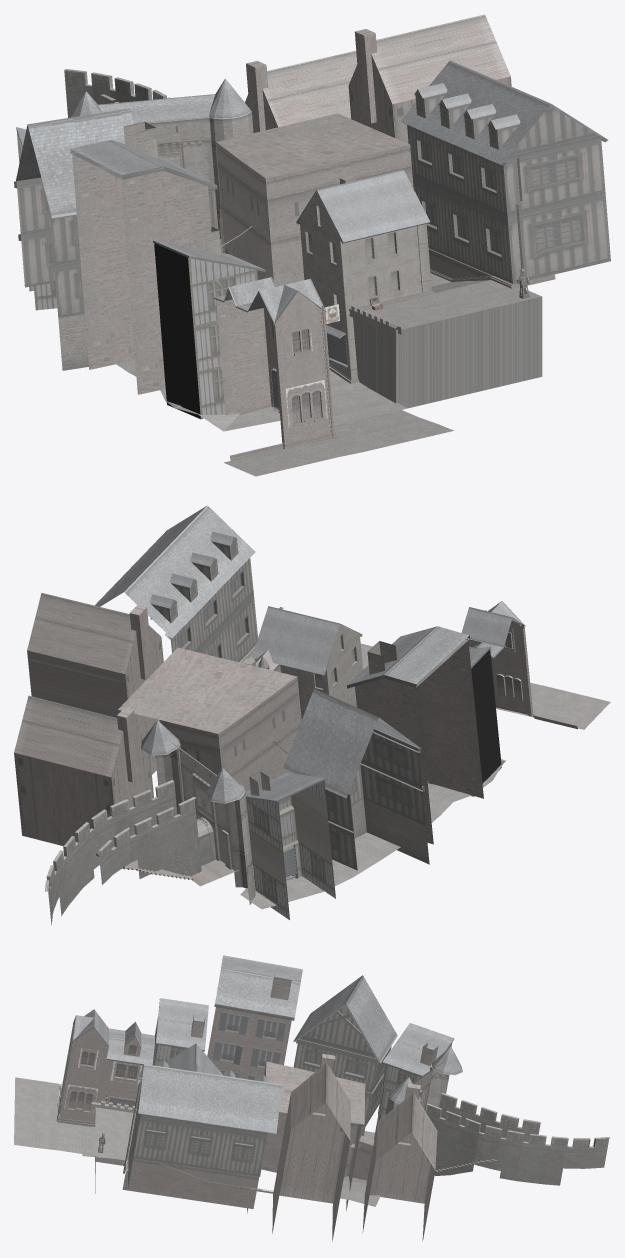
File: street.obj
3 views of the same model, one above another, from view 1: azimuth 30°, elevation 25°; view 2: azimuth 150°, elevation 25°; view 3: azimuth 270°, elevation 25° (orthographic). The views are drawn at different scales.
Visible parts, largest first — view 1: DrawCall_0046.001, DrawCall_0016.001, DrawCall_0033.001, DrawCall_0024.001, DrawCall_0044.001, DrawCall_0010.001, DrawCall_0027.001, DrawCall_0015.001, DrawCall_0006.001, DrawCall_0021.001, DrawCall_0020.001, DrawCall_0028.001 (+15 smaller); view 2: DrawCall_0024.001, DrawCall_0006.001, DrawCall_0010.001, DrawCall_0033.001, DrawCall_0015.001, DrawCall_0004.001, DrawCall_0021.001, DrawCall_0020.001, DrawCall_0016.001, DrawCall_0046.001, DrawCall_0064.001, DrawCall_0028.001 (+17 smaller); view 3: DrawCall_0010.001, DrawCall_0015.001, DrawCall_0046.001, DrawCall_0006.001, DrawCall_0016.001, DrawCall_0021.001, DrawCall_0014.001, DrawCall_0032.001, DrawCall_0024.001, DrawCall_0044.001, DrawCall_0051.001, DrawCall_0020.001 (+17 smaller).
Part boxes in pixels (left/top/right/bottom): DrawCall_0046.001: left=116, top=273, right=542, bottom=476; DrawCall_0016.001: left=407, top=90, right=610, bottom=283; DrawCall_0033.001: left=72, top=152, right=210, bottom=394; DrawCall_0024.001: left=216, top=113, right=413, bottom=286; DrawCall_0044.001: left=216, top=292, right=334, bottom=443; DrawCall_0010.001: left=348, top=14, right=511, bottom=143; DrawCall_0027.001: left=296, top=190, right=431, bottom=379; DrawCall_0015.001: left=400, top=60, right=607, bottom=165; DrawCall_0006.001: left=245, top=50, right=357, bottom=132; DrawCall_0021.001: left=14, top=177, right=84, bottom=317; DrawCall_0020.001: left=16, top=108, right=133, bottom=218; DrawCall_0028.001: left=298, top=169, right=430, bottom=338; DrawCall_0024.001: left=118, top=647, right=301, bottom=791; DrawCall_0006.001: left=14, top=695, right=153, bottom=846; DrawCall_0010.001: left=27, top=592, right=163, bottom=774; DrawCall_0033.001: left=355, top=639, right=483, bottom=844; DrawCall_0015.001: left=95, top=505, right=255, bottom=639; DrawCall_0004.001: left=246, top=781, right=335, bottom=919; DrawCall_0021.001: left=325, top=728, right=425, bottom=870; DrawCall_0020.001: left=282, top=688, right=420, bottom=798; DrawCall_0016.001: left=150, top=537, right=257, bottom=662; DrawCall_0046.001: left=240, top=643, right=610, bottom=909; DrawCall_0064.001: left=155, top=745, right=255, bottom=904; DrawCall_0028.001: left=252, top=606, right=360, bottom=674; DrawCall_0010.001: left=272, top=1054, right=350, bottom=1241; DrawCall_0015.001: left=138, top=1060, right=282, bottom=1133; DrawCall_0046.001: left=14, top=1077, right=380, bottom=1206; DrawCall_0006.001: left=362, top=1083, right=437, bottom=1241; DrawCall_0016.001: left=128, top=1065, right=267, bottom=1188; DrawCall_0021.001: left=293, top=1006, right=391, bottom=1126; DrawCall_0014.001: left=122, top=1158, right=259, bottom=1208; DrawCall_0032.001: left=214, top=955, right=302, bottom=1020; DrawCall_0024.001: left=247, top=1061, right=365, bottom=1213; DrawCall_0044.001: left=59, top=1019, right=143, bottom=1122; DrawCall_0051.001: left=430, top=1118, right=521, bottom=1175; DrawCall_0020.001: left=293, top=975, right=397, bottom=1063.
Bounding box in the file's own units: 73.27 × 41.63 × 121.
